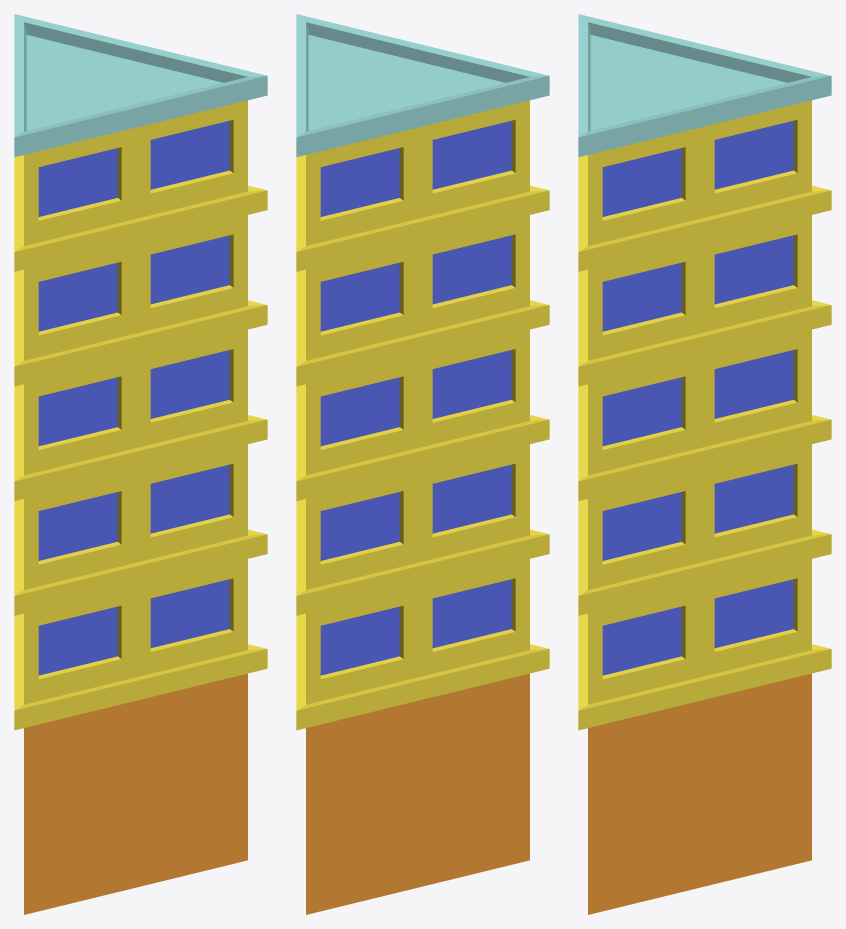
Rendered from house9.fbx.
3 renders of one model, left to right at view 1: azimuth 30°, elevation 25°; view 2: azimuth 150°, elevation 25°; view 3: azimuth 270°, elevation 25°, orthographic.
Visible parts, largest first — view 1: building_2.001; view 2: building_2.001; view 3: building_2.001.
Boxes of the visible parts, <box> form: building_2.001: <box>14,14,267,914</box>; building_2.001: <box>296,14,549,914</box>; building_2.001: <box>578,14,831,914</box>.
Bounding box in the file's own units: 1571 × 4654 × 1361.
